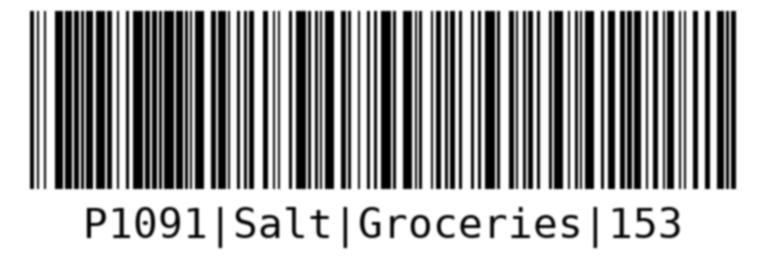milk: (23, 5, 744, 269)
